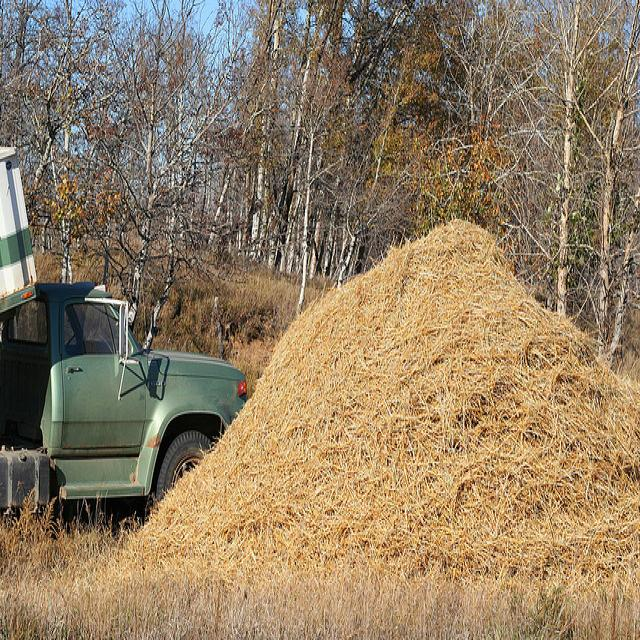Vehicle: (0, 141, 247, 522)
